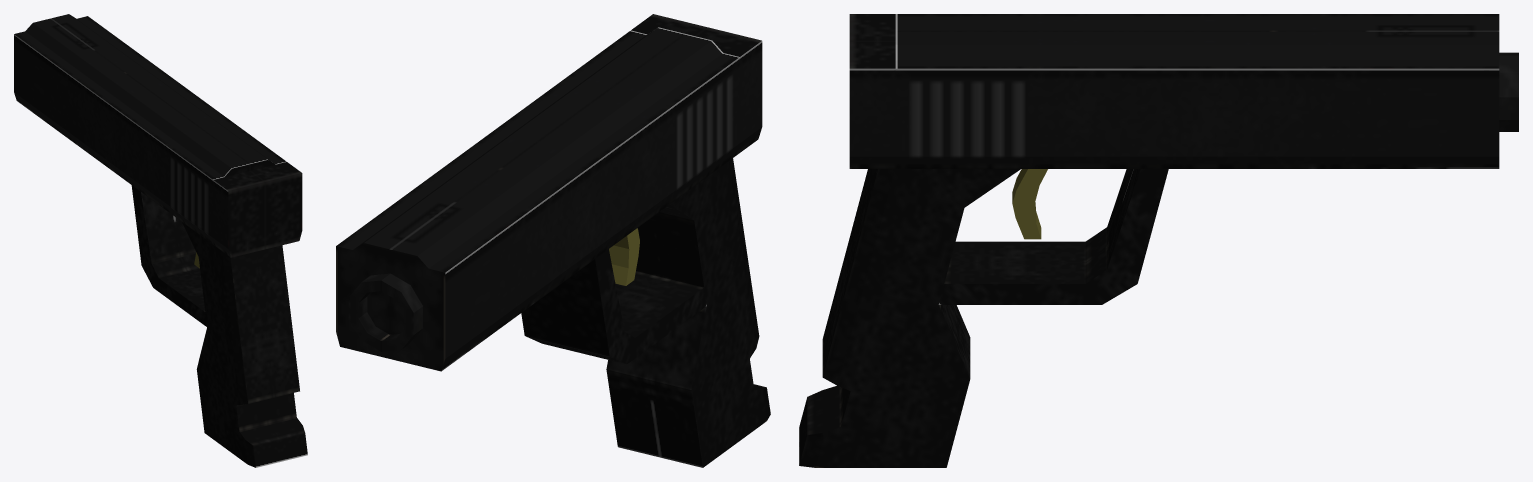
Rendered from Glock.fbx.
3 renders of one model, left to right at view 1: azimuth 30°, elevation 25°; view 2: azimuth 150°, elevation 25°; view 3: azimuth 270°, elevation 25°, orthographic. The views are drawn at different scales.
Visible parts, largest first — view 1: Glock; view 2: Glock, Cube; view 3: Glock, Cube.
Part boxes in pixels (box(x1,y1,x2,y2)): Glock: box(14, 14, 307, 467); Glock: box(336, 14, 770, 467); Cube: box(609, 228, 639, 285); Glock: box(799, 14, 1518, 467); Cube: box(1012, 169, 1047, 239).
Size of the model in its own units: 77.22 by 274 by 430.
Materials: 2 (1 with a texture image).
